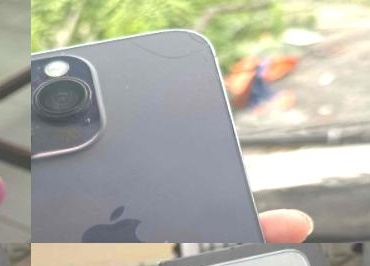physical_damage: (120, 9, 238, 103)
scratch: (31, 49, 81, 102), (31, 110, 74, 157)
